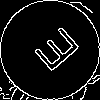E: (25, 25, 82, 80)
